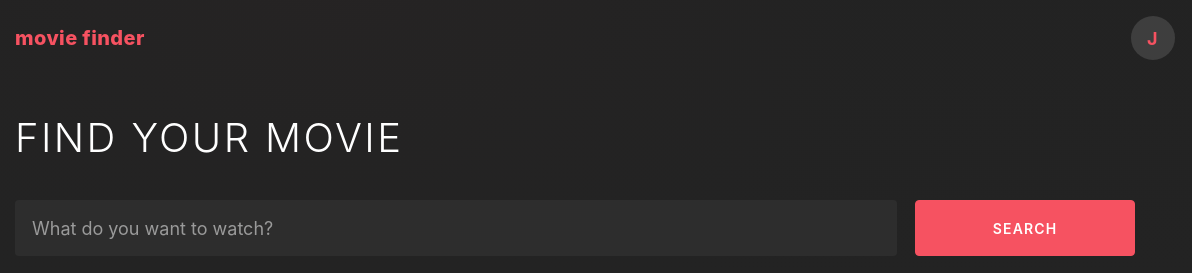
Test: Header Component › should render USER button for authorized users with contextual menu
This screenshot has width=1192, height=273.
Click the button "J" at (1153, 38), box 1131,16 -> 1175,60
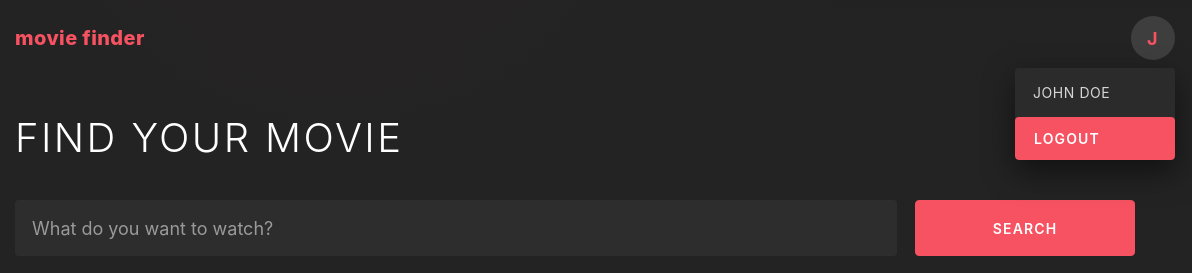
Check: the text "John Doe" is shown, box 1033,84 -> 1110,101
Check: the button "LOGOUT" is shown, box 1015,117 -> 1175,160
